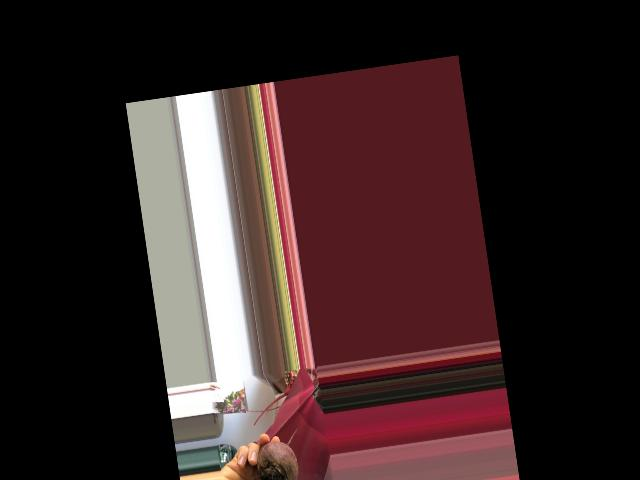beet: (223, 426, 312, 480)
